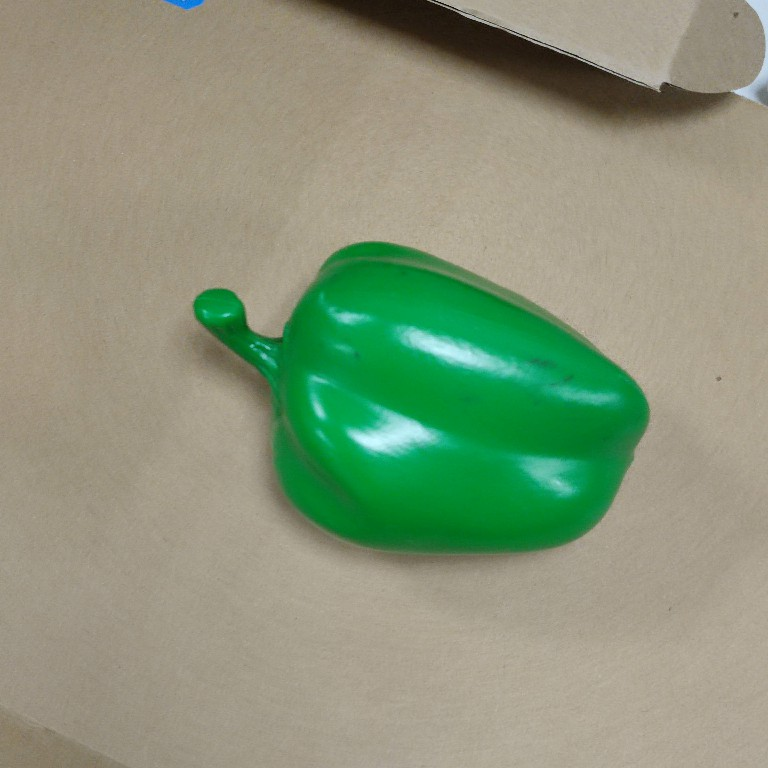fruit_pepper: (189, 236, 651, 560)
